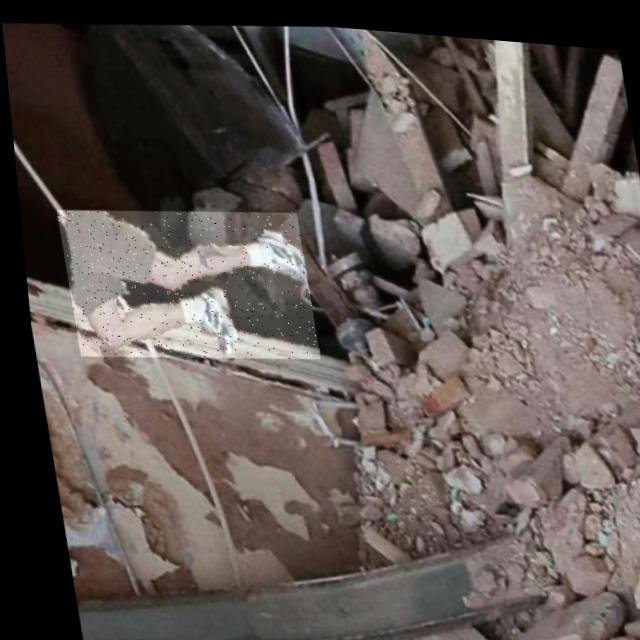Person in Rubble: (50, 191, 315, 370)
